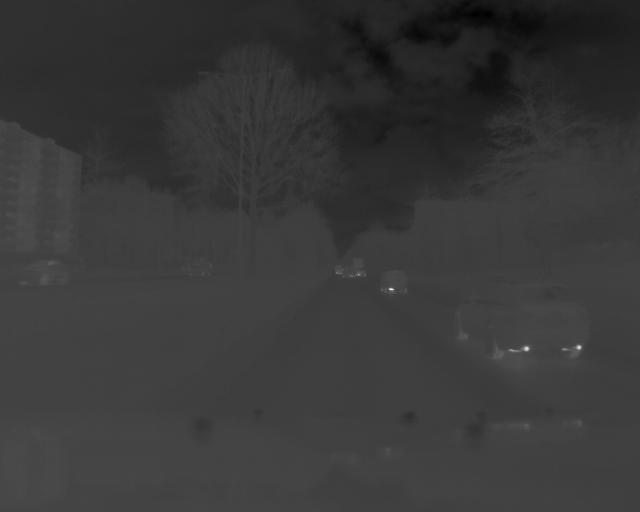car: (451, 273, 598, 363), (14, 258, 77, 289), (378, 268, 411, 296)
